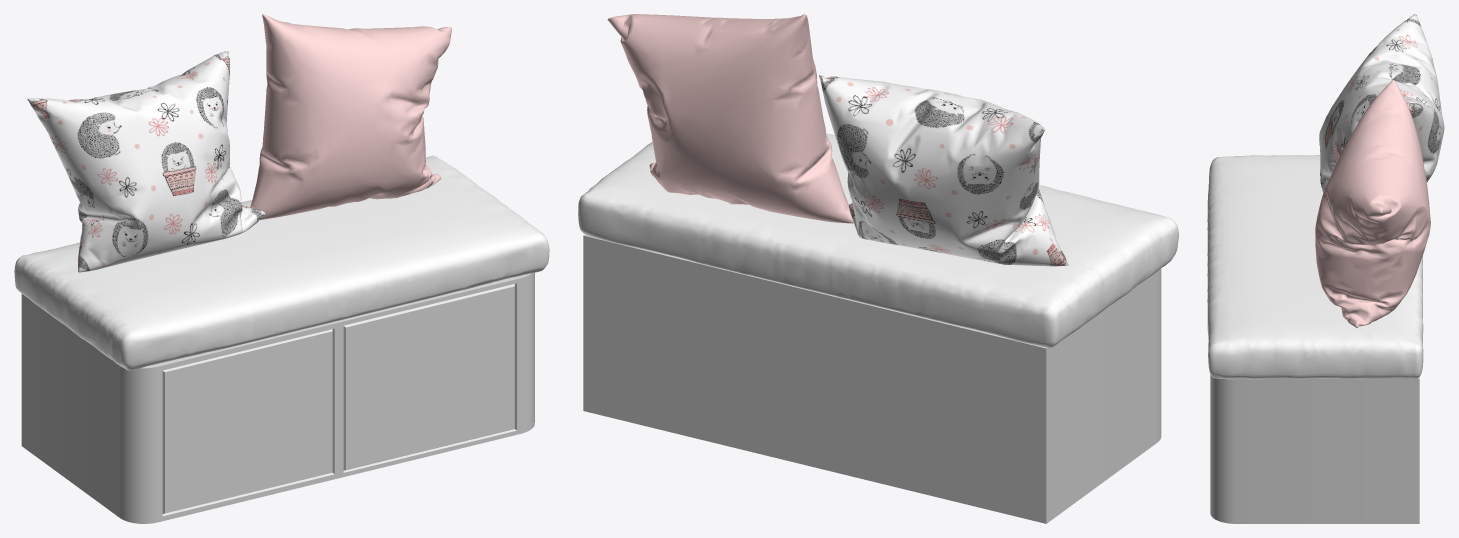
File: Mini_Sofa.fbx
3 renders of one model, left to right at view 1: azimuth 30°, elevation 25°; view 2: azimuth 150°, elevation 25°; view 3: azimuth 270°, elevation 25°, orthographic. The views are drawn at different scales.
Parts seen in each view (by area): view 1: Cube, Seat_Cushion_LOD0_1, Seat_Pillow2_LOD0, Seat_Pillow1_LOD0; view 2: Cube, Seat_Cushion_LOD0_1, Seat_Pillow2_LOD0, Seat_Pillow1_LOD0; view 3: Seat_Cushion_LOD0_1, Cube, Seat_Pillow2_LOD0, Seat_Pillow1_LOD0.
Boxes of the visible parts, x1,y1,x2,y2 form: Cube: [21, 273, 534, 523]; Seat_Cushion_LOD0_1: [14, 155, 549, 370]; Seat_Pillow2_LOD0: [250, 14, 451, 219]; Seat_Pillow1_LOD0: [27, 51, 265, 272]; Cube: [583, 234, 1161, 523]; Seat_Cushion_LOD0_1: [578, 133, 1178, 347]; Seat_Pillow2_LOD0: [607, 14, 853, 223]; Seat_Pillow1_LOD0: [819, 74, 1068, 266]; Seat_Cushion_LOD0_1: [1207, 155, 1423, 379]; Cube: [1210, 374, 1419, 523]; Seat_Pillow2_LOD0: [1315, 80, 1430, 327]; Seat_Pillow1_LOD0: [1319, 14, 1444, 192].
Bounding box in the file's own units: 97.4 × 84.17 × 50.19.
Materials: 3 (2 with a texture image).
